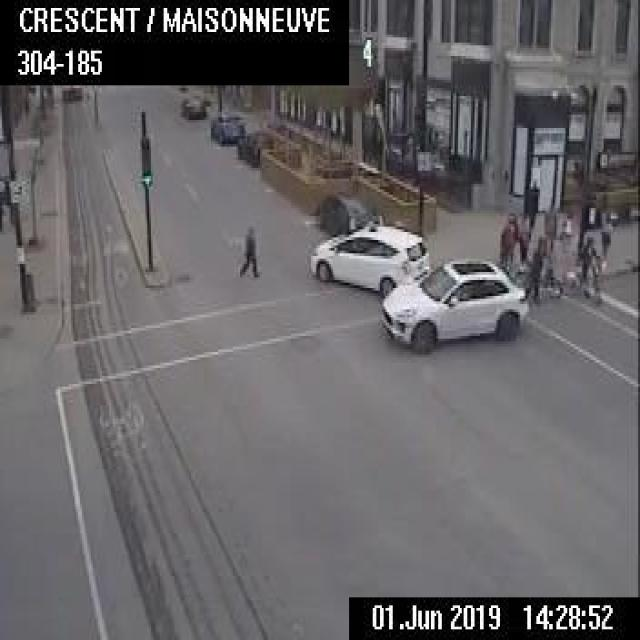cyclist: (569, 232, 601, 300)
pedestrian: (236, 222, 258, 277), (499, 210, 517, 271), (523, 240, 541, 300), (516, 209, 533, 270), (600, 210, 612, 266)
vehicle: (379, 254, 527, 351), (309, 223, 427, 293), (318, 192, 377, 235), (235, 128, 272, 166), (209, 111, 244, 142), (180, 92, 205, 118)
